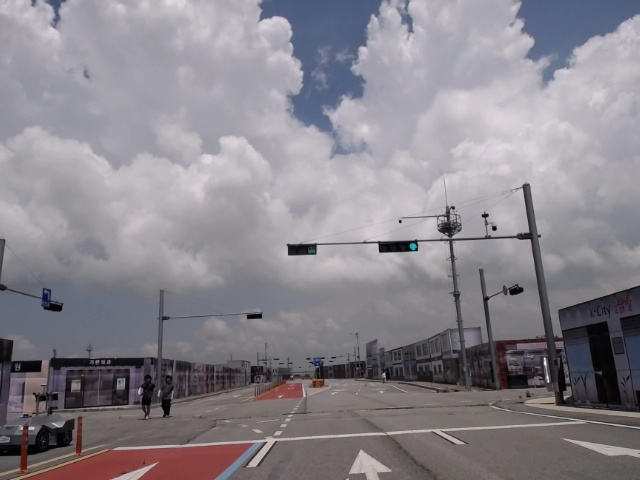straight_green_4: (378, 243, 418, 251)
